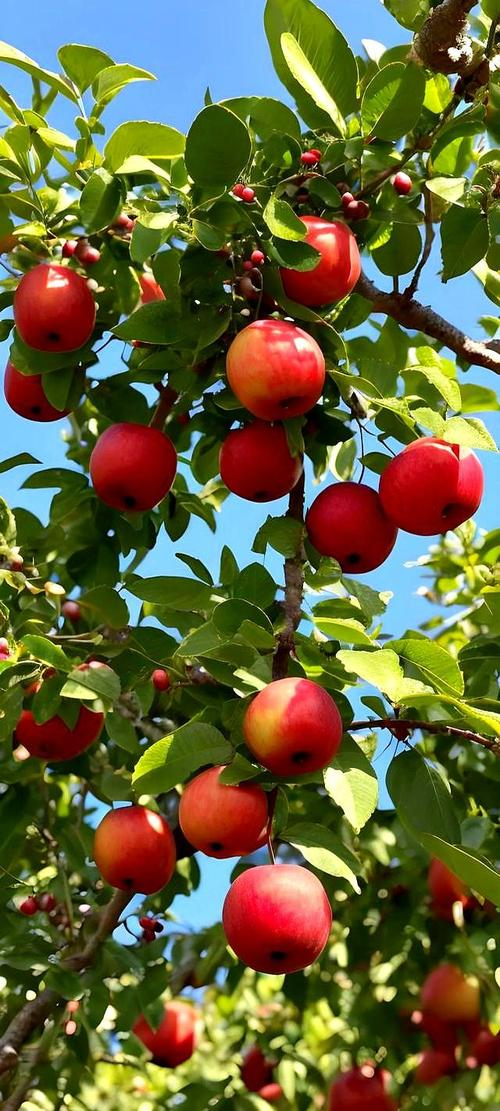ripe: (213, 862, 357, 986), (247, 198, 374, 309), (371, 428, 496, 533), (218, 312, 337, 419), (286, 470, 402, 573), (74, 799, 193, 896), (179, 765, 281, 864), (85, 417, 181, 516), (9, 247, 105, 346), (207, 425, 323, 502)
unripe: (235, 675, 366, 771)
